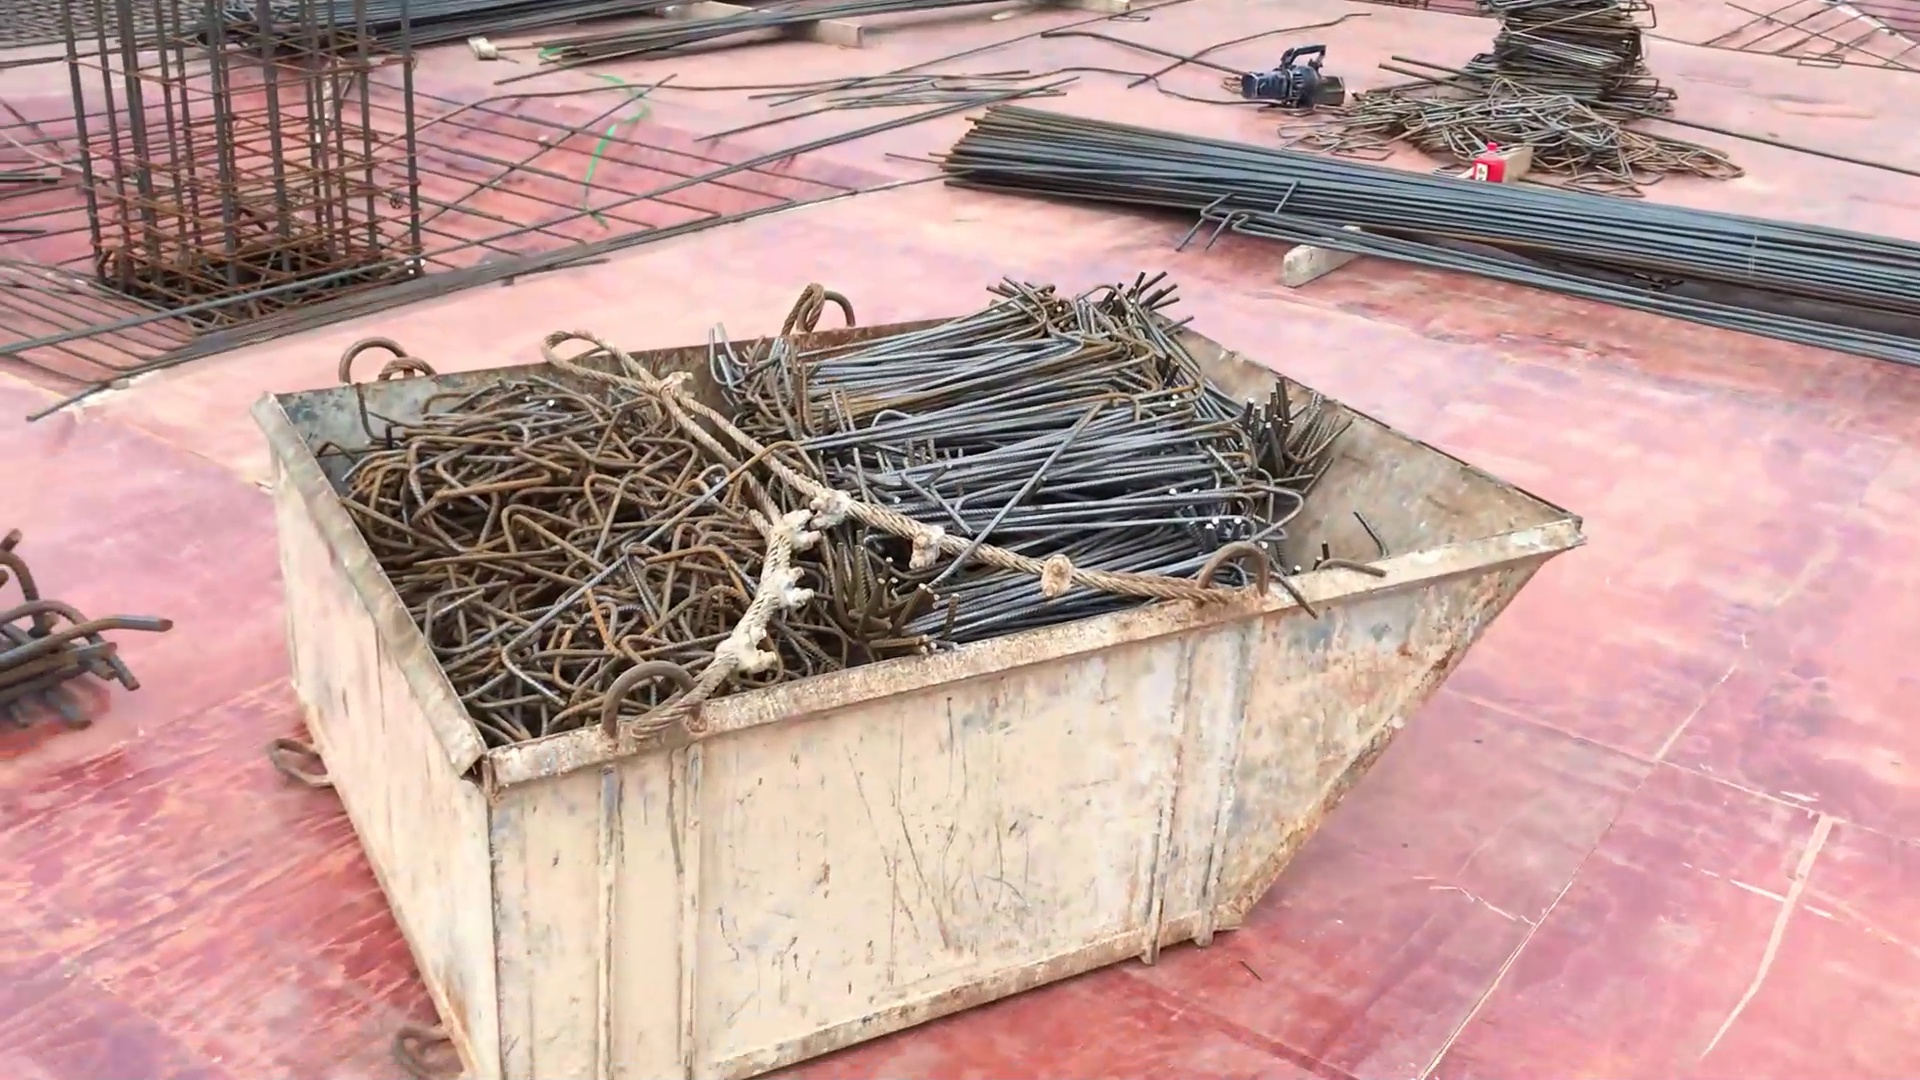hopper: (233, 281, 1614, 1080)
rebar: (947, 79, 1920, 348)
